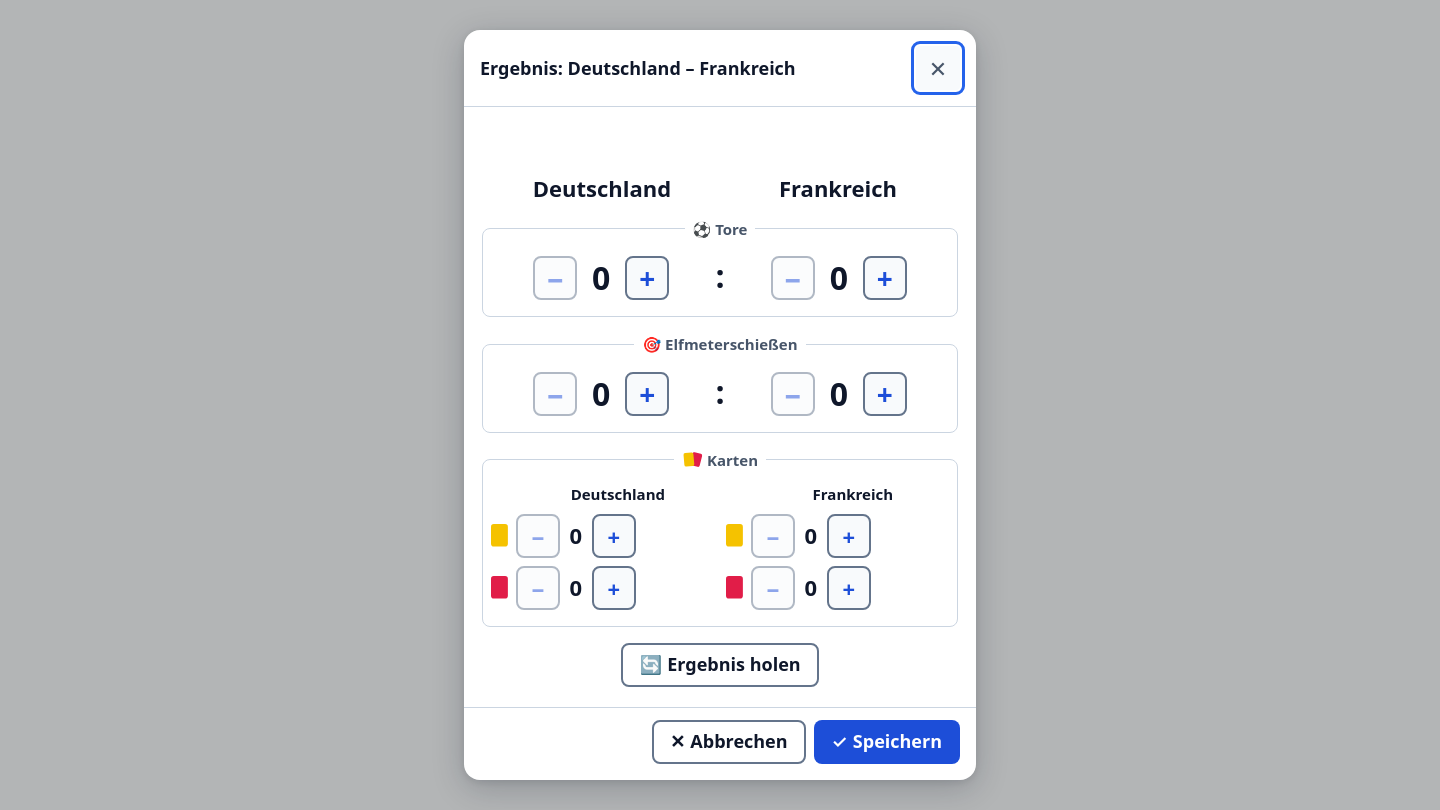
ScoreDialog › knockout draw validation › shows error after clicking "Speichern" with a knockout draw
Click the button "✓ Speichern".
click(887, 742)  # box 814,720 -> 960,764
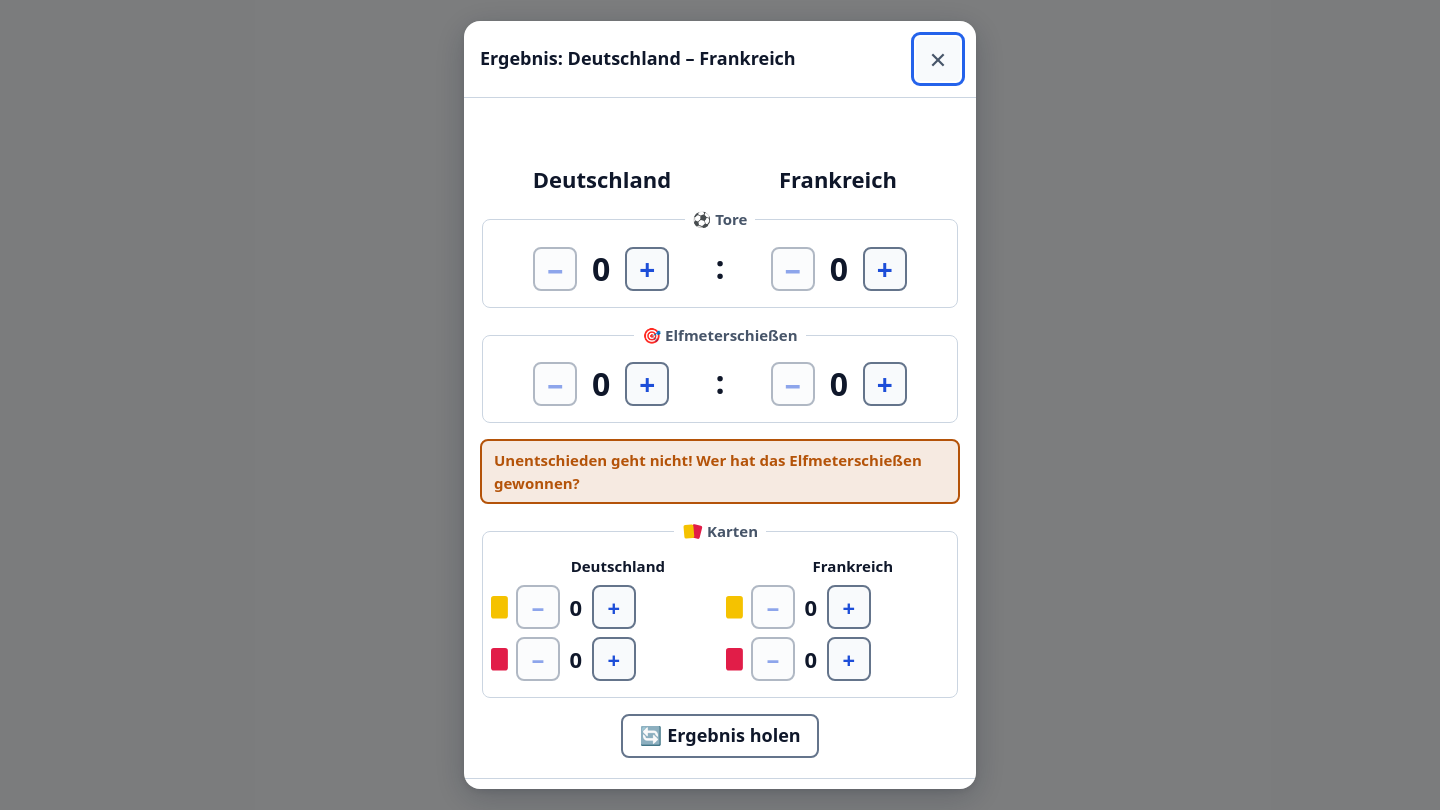
Expected: the message "Unentschieden geht nicht! Wer hat das Elfmeterschießen gewonnen?" is shown, 480,439 -> 960,504
